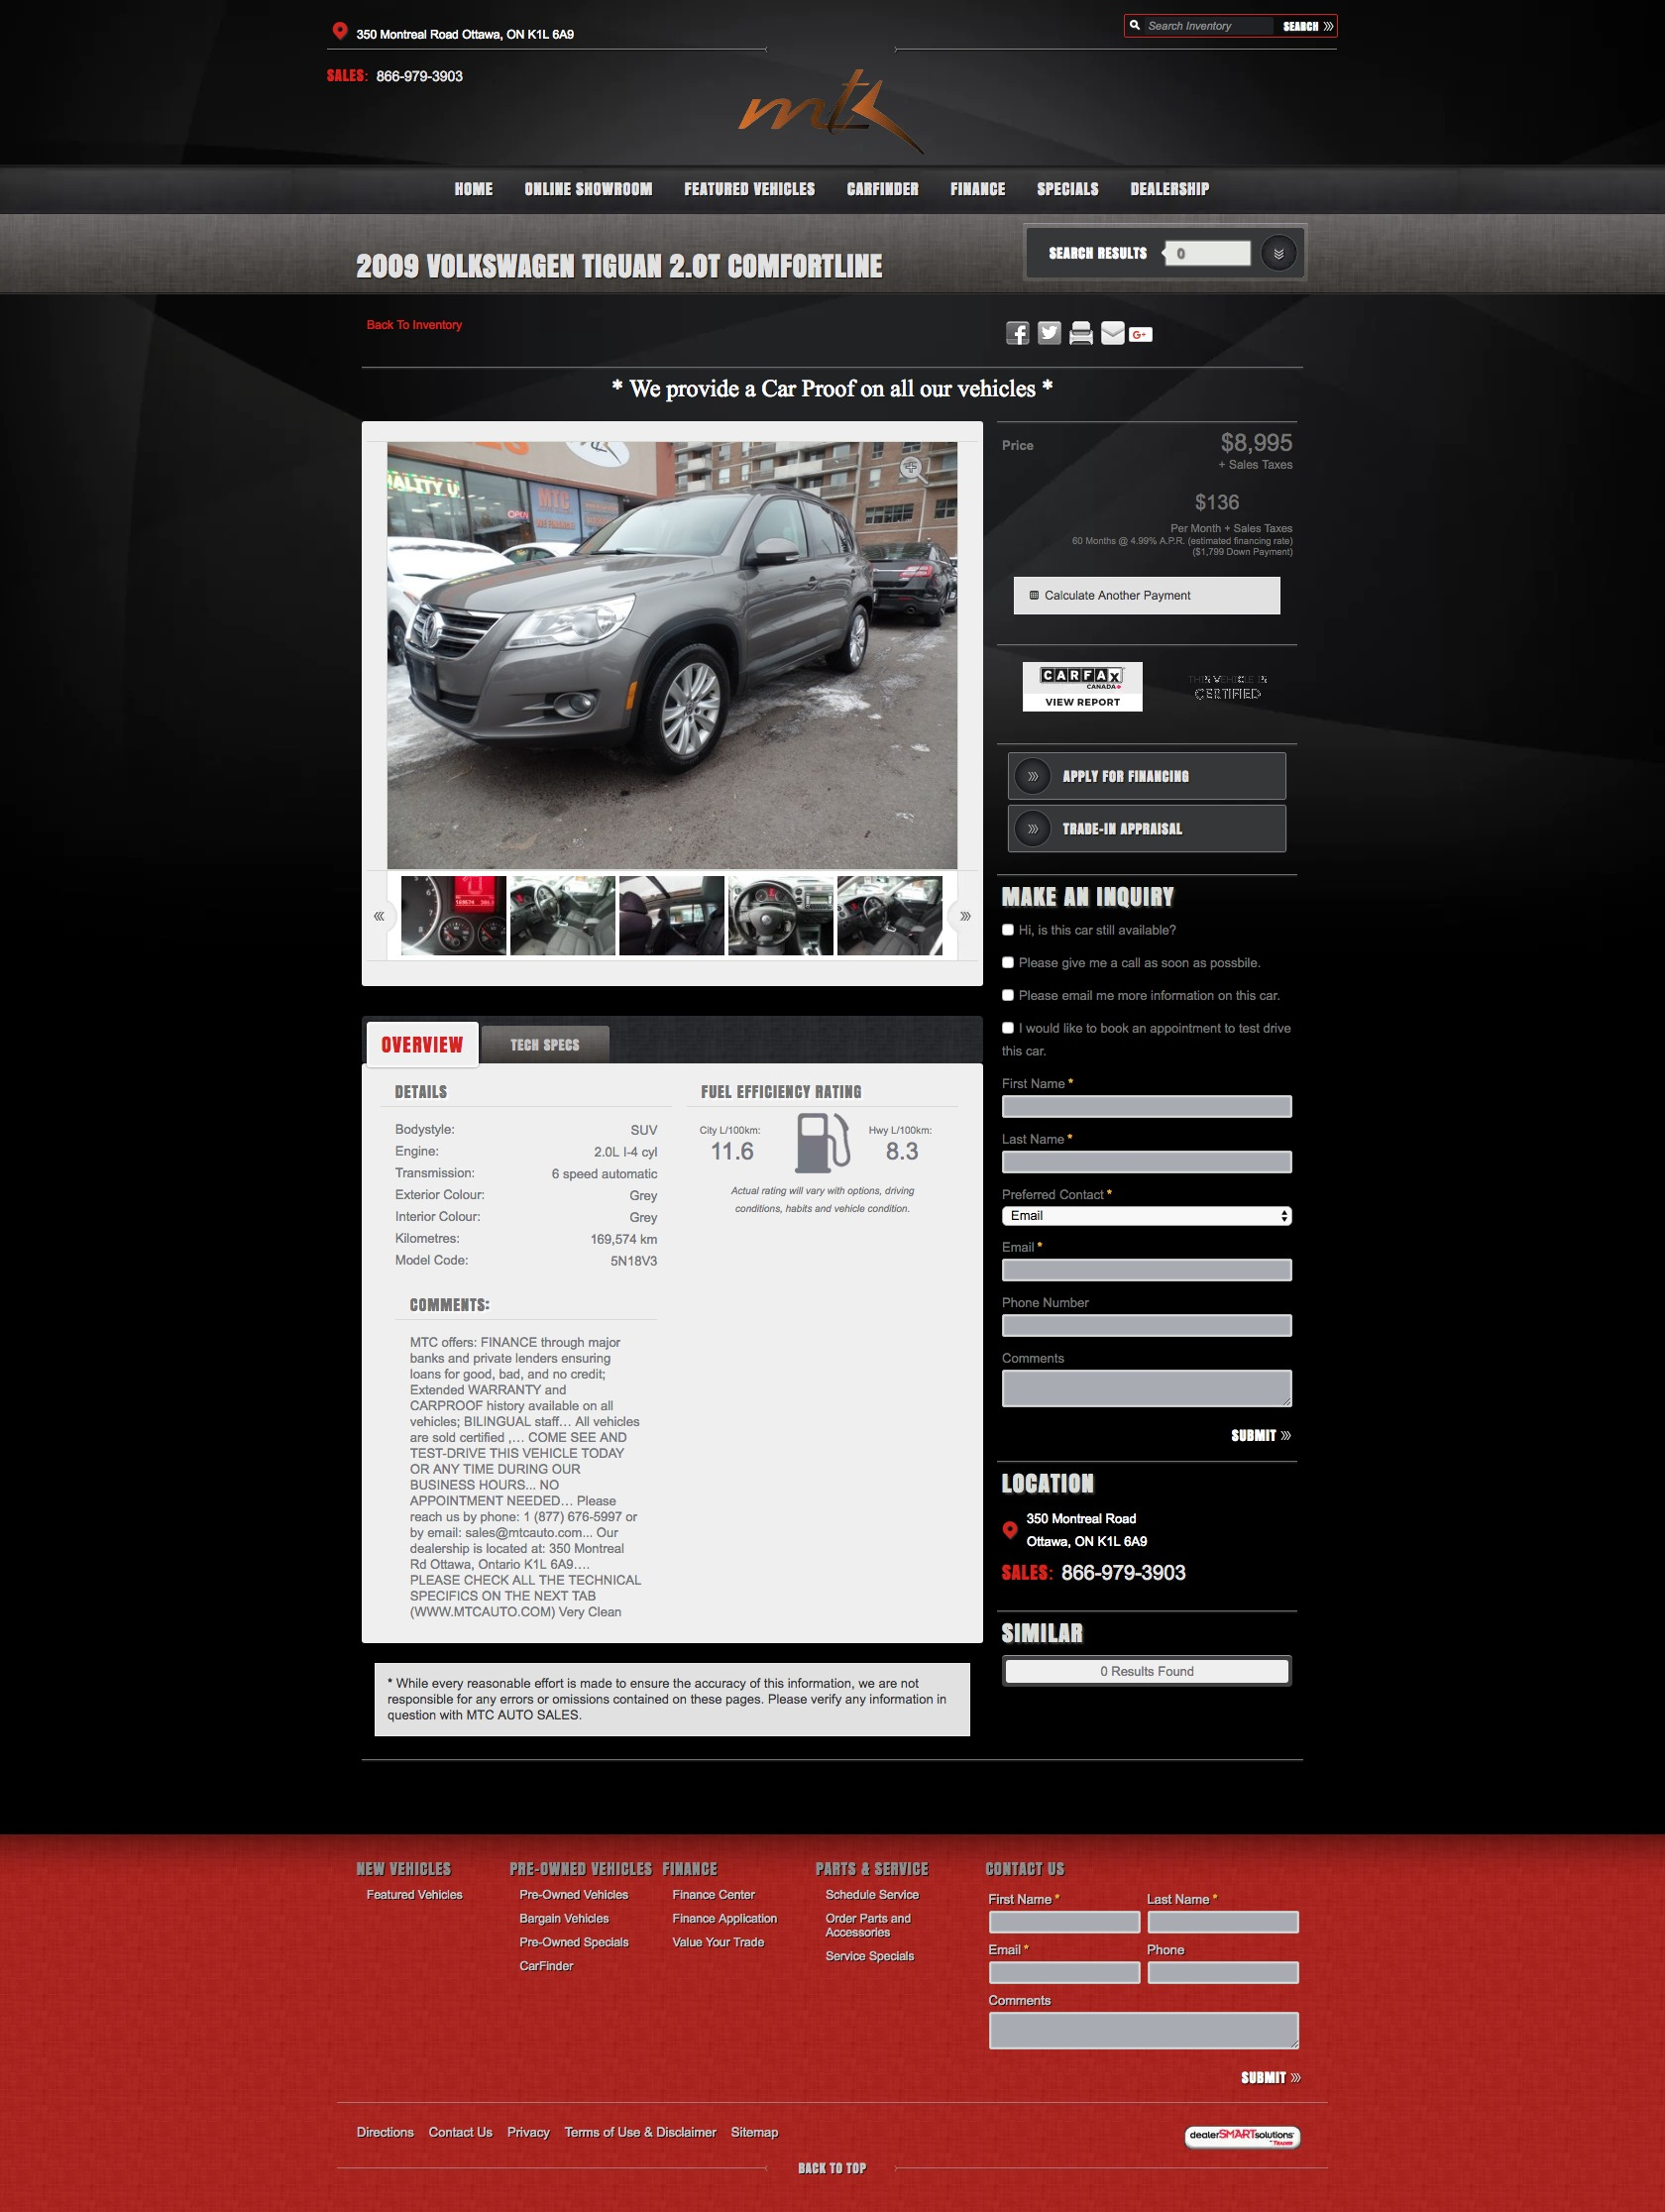car: (960, 909, 972, 923)
